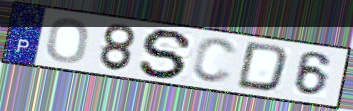6: (290, 51, 334, 99)
8: (98, 22, 138, 73)
C: (189, 36, 239, 86)
D: (234, 40, 292, 94)
O: (44, 16, 91, 65)
S: (137, 28, 196, 80)
